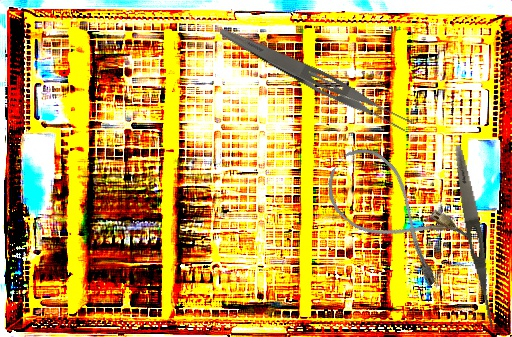Cannula: (313, 137, 475, 291)
Dressing Forceps: (214, 23, 416, 138), (449, 143, 502, 333)
